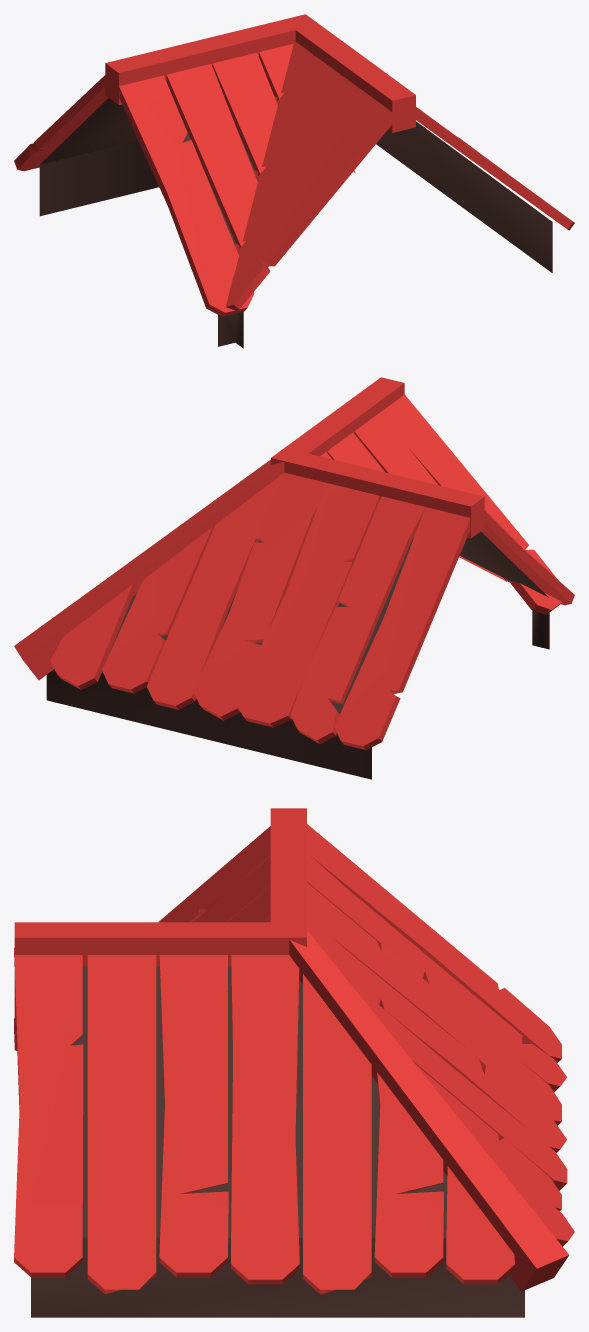
The model's file is Building_Angle_Roof_003.glb.
The picture shows the model from 3 angles, top to bottom: view 1: azimuth 30°, elevation 25°; view 2: azimuth 150°, elevation 25°; view 3: azimuth 270°, elevation 25°; orthographic projection. The views are drawn at different scales.
Visible parts, largest first — view 1: Building_Angle_Roof_003; view 2: Building_Angle_Roof_003; view 3: Building_Angle_Roof_003.
Part boxes in pixels (bbox=[...]): Building_Angle_Roof_003: bbox=[14, 14, 574, 348]; Building_Angle_Roof_003: bbox=[14, 377, 574, 779]; Building_Angle_Roof_003: bbox=[14, 808, 574, 1317].
Size of the model in its own units: 7.88 by 4.38 by 7.73.
1 material, 1 textured.
